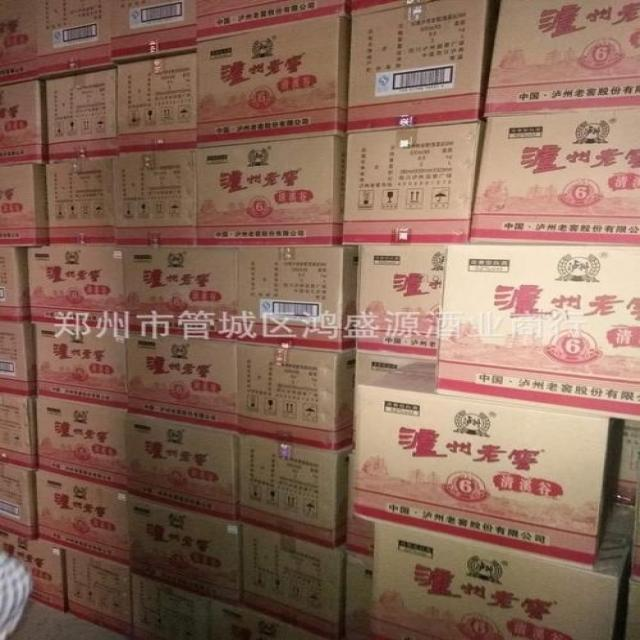box: (353, 361, 609, 570), (370, 504, 635, 639), (435, 245, 639, 420), (469, 108, 639, 246), (196, 16, 352, 148), (347, 0, 487, 134), (483, 0, 639, 117), (342, 120, 486, 245), (195, 136, 347, 246), (238, 433, 352, 549), (236, 344, 356, 451), (237, 246, 357, 353), (127, 497, 241, 608), (125, 413, 239, 524), (242, 523, 347, 639), (123, 333, 237, 432), (122, 247, 237, 343), (357, 245, 447, 361), (35, 471, 130, 571), (36, 398, 126, 494), (352, 352, 438, 451), (28, 245, 124, 331), (36, 324, 128, 412), (112, 151, 196, 247), (118, 51, 197, 153), (45, 69, 117, 164), (36, 0, 118, 80), (46, 158, 114, 246), (64, 550, 132, 638), (1, 529, 67, 614), (111, 0, 197, 64), (131, 573, 211, 638), (210, 600, 325, 639), (0, 79, 48, 167), (0, 163, 49, 247), (0, 0, 38, 85), (347, 452, 375, 558), (0, 462, 37, 540), (0, 322, 37, 399), (0, 394, 37, 471), (341, 553, 372, 639), (0, 247, 30, 323), (615, 419, 639, 505)
